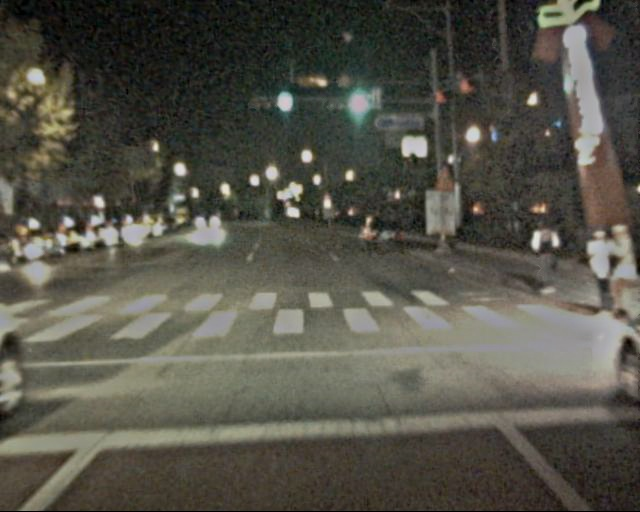person: (575, 227, 613, 320), (593, 225, 630, 316), (525, 216, 560, 302)
